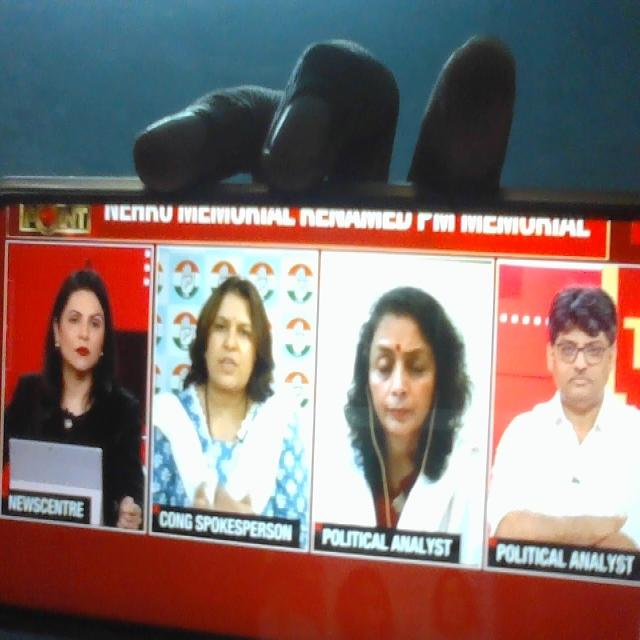fake: (347, 281, 447, 471)
